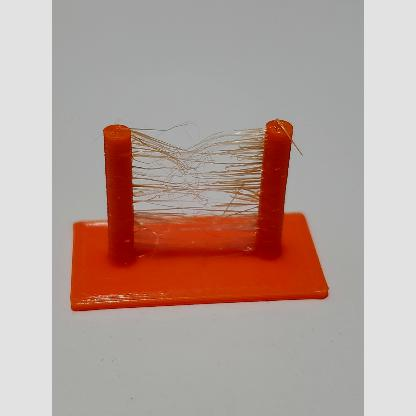fail: (132, 126, 264, 210)
